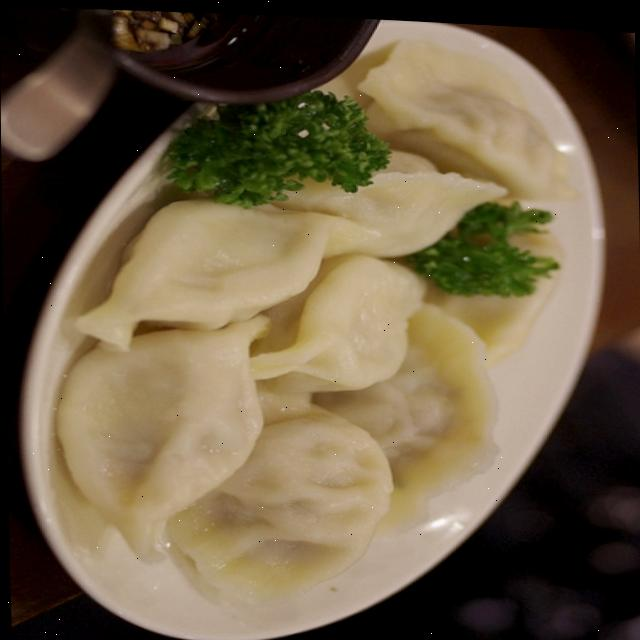带馅早点: (15, 22, 625, 624)
